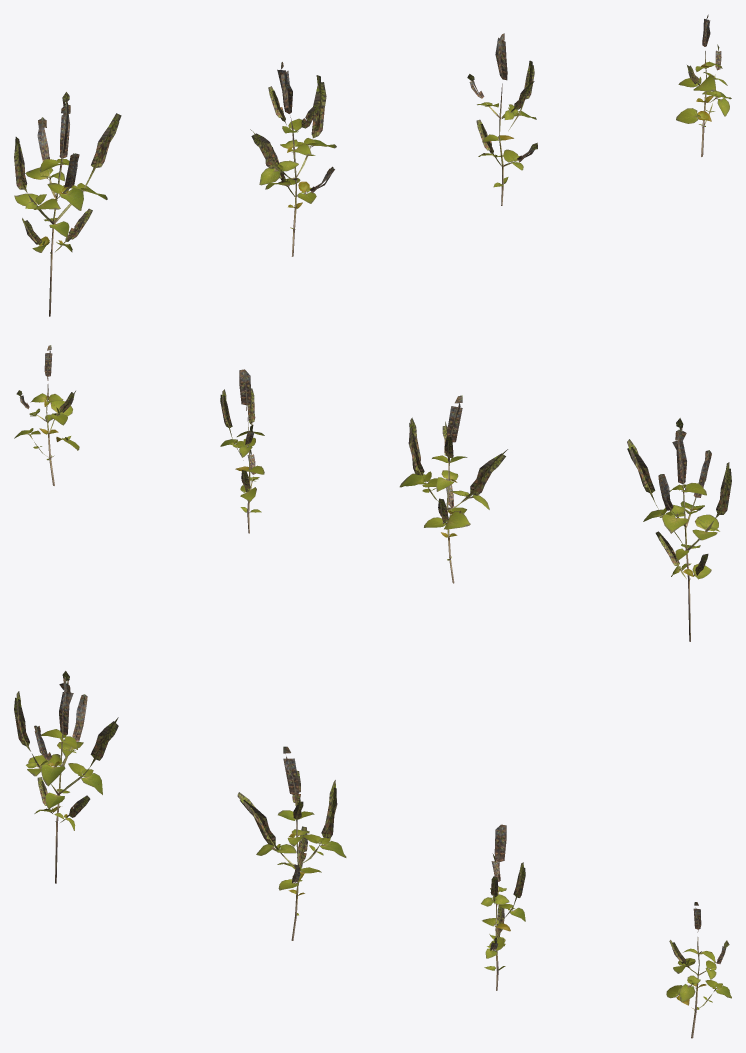
Rendered from ph_shrub_03.glb.
The picture shows the model from 3 angles, top to bottom: view 1: azimuth 30°, elevation 25°; view 2: azimuth 150°, elevation 25°; view 3: azimuth 330°, elevation 25°; orthographic projection. The views are drawn at different scales.
Parts seen in each view (by area): view 1: shrub_03_a, shrub_03_b, shrub_03_c, shrub_03_d; view 2: shrub_03_a, shrub_03_b, shrub_03_c, shrub_03_d; view 3: shrub_03_a, shrub_03_b, shrub_03_c, shrub_03_d.
Boxes of the visible parts, x1,y1,x2,y2 form: shrub_03_a: (14, 92, 121, 316); shrub_03_b: (250, 62, 336, 256); shrub_03_c: (467, 33, 537, 205); shrub_03_d: (676, 14, 731, 156); shrub_03_a: (627, 418, 731, 641); shrub_03_b: (399, 395, 507, 583); shrub_03_c: (220, 369, 264, 533); shrub_03_d: (14, 345, 79, 485); shrub_03_a: (14, 671, 118, 883); shrub_03_b: (237, 746, 346, 940); shrub_03_c: (481, 824, 525, 990); shrub_03_d: (666, 902, 731, 1038).
Size of the model in its own units: 1.37 by 0.403 by 0.1512.
Materials: 1 (1 with a texture image).
